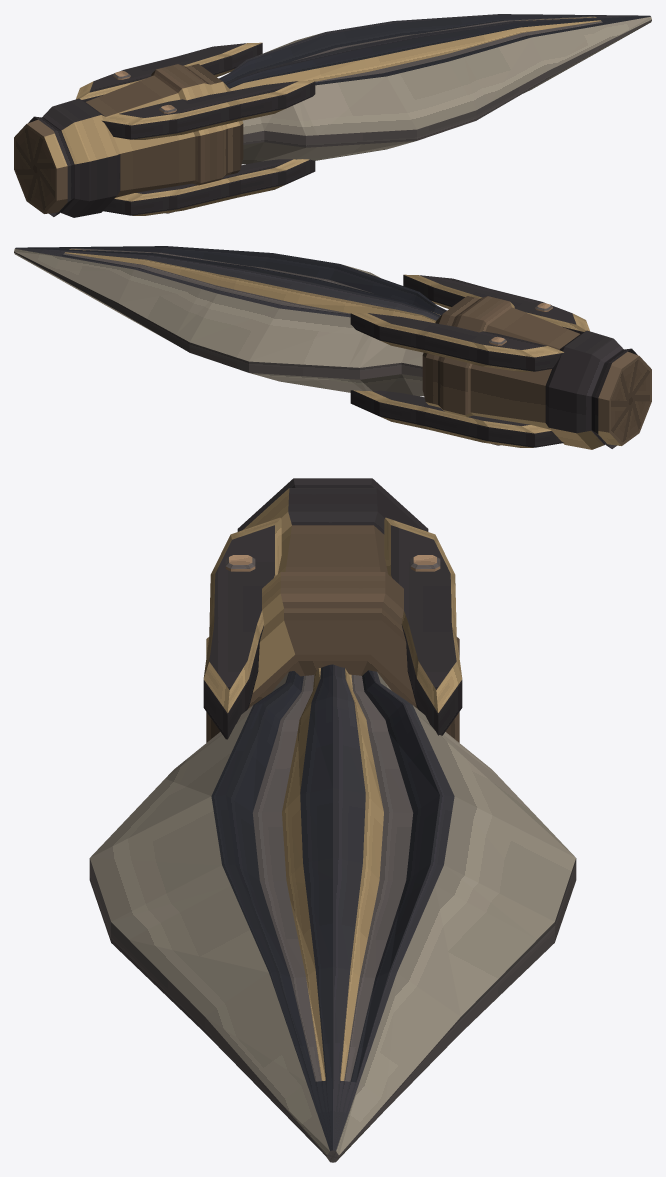
File: bench_xuantie_spear_4.obj
3 views of the same model, one above another, from view 1: azimuth 30°, elevation 25°; view 2: azimuth 150°, elevation 25°; view 3: azimuth 270°, elevation 25° (orthographic). The views are drawn at different scales.
Parts seen in each view (by area): view 1: geometry; view 2: geometry; view 3: geometry.
Part boxes in pixels (left/top/right/bottom): geometry: left=14, top=14, right=651, bottom=217; geometry: left=14, top=246, right=651, bottom=449; geometry: left=89, top=478, right=576, bottom=1162.
Size of the model in its own units: 0.75 by 0.1336 by 0.2568.
